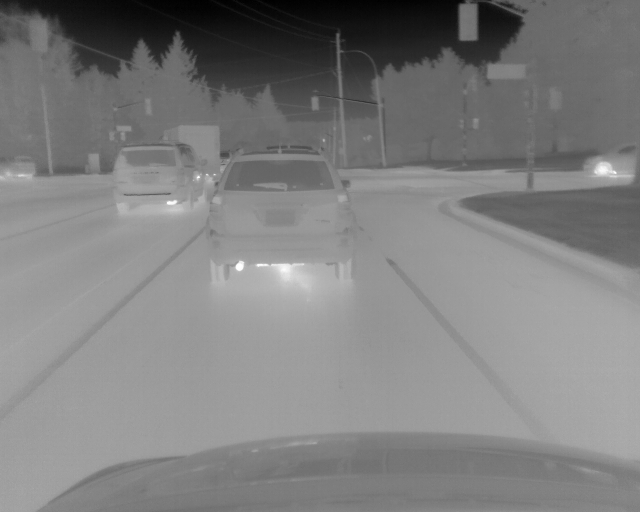car: (208, 145, 358, 284), (111, 141, 210, 211), (161, 124, 220, 181), (582, 142, 640, 177), (1, 154, 37, 181)
